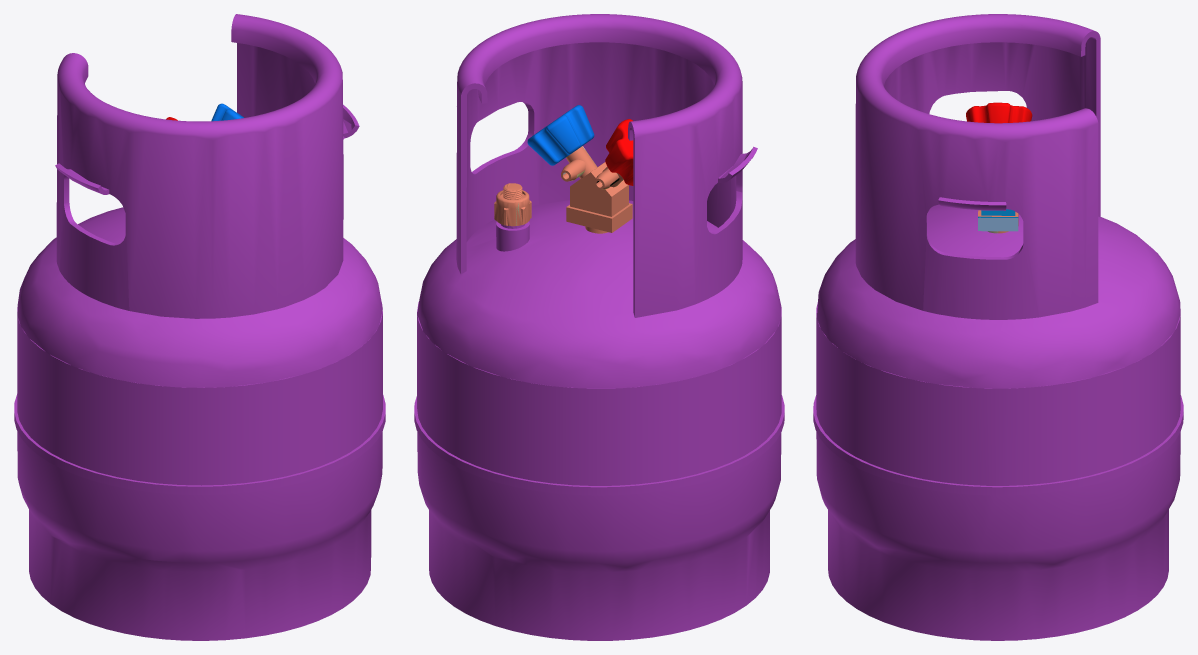
The model's file is Pink tank.fbx.
The picture shows the model from 3 angles, left to right: view 1: azimuth 30°, elevation 25°; view 2: azimuth 150°, elevation 25°; view 3: azimuth 270°, elevation 25°; orthographic projection.
Parts seen in each view (by area): view 1: Recovery Unit V3_B001; view 2: Recovery Unit V3_B001, Handl Anboba001; view 3: Recovery Unit V3_B001.
Part boxes in pixels (x1=…): Recovery Unit V3_B001: x1=14, y1=14, x2=385, y2=640; Recovery Unit V3_B001: x1=414, y1=14, x2=784, y2=640; Handl Anboba001: x1=527, y1=105, x2=594, y2=165; Recovery Unit V3_B001: x1=813, y1=14, x2=1183, y2=640.
Bounding box in the file's own units: 18.47 × 27.43 × 18.45.
2 materials, 1 textured.
